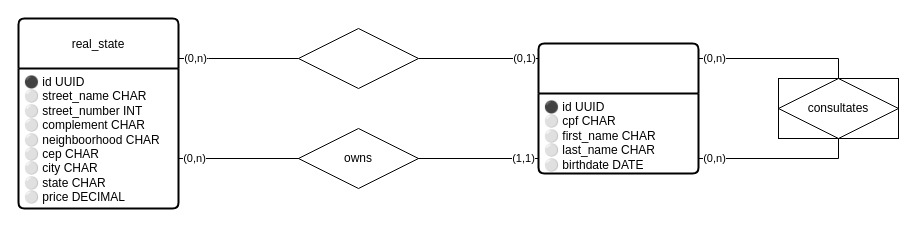
Image size: 916x226. Some labels were removed from this diagram. Here are the shapes that lost their labels. From the top down, the box of each, then its label:
(298, 28, 418, 88): rents
(537, 42, 699, 174): person
